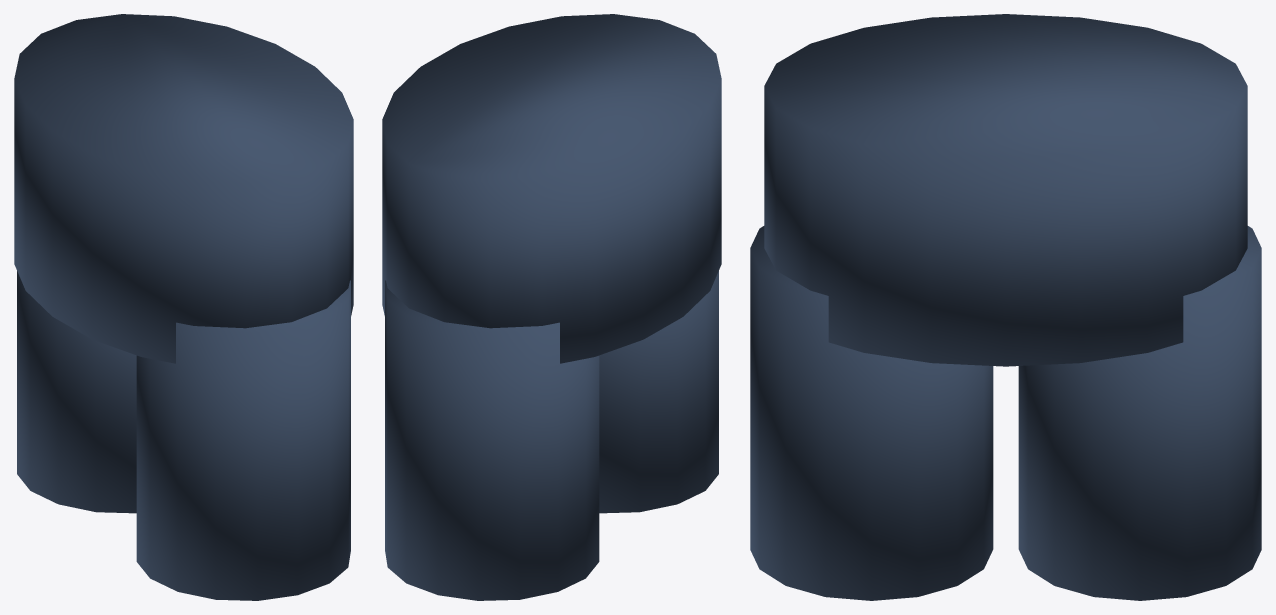
Rendered from SM_Craquez_Shorts.fbx.
The picture shows the model from 3 angles, left to right: view 1: azimuth 30°, elevation 25°; view 2: azimuth 150°, elevation 25°; view 3: azimuth 270°, elevation 25°; orthographic projection. The views are drawn at different scales.
Parts seen in each view (by area): view 1: SM_Craquez_Shorts; view 2: SM_Craquez_Shorts; view 3: SM_Craquez_Shorts.
Boxes of the visible parts, x1,y1,x2,y2 form: SM_Craquez_Shorts: (14,14,353,600); SM_Craquez_Shorts: (382,14,721,600); SM_Craquez_Shorts: (750,14,1261,600).
Size of the model in its own units: 0.2664 by 0.4 by 0.4.
